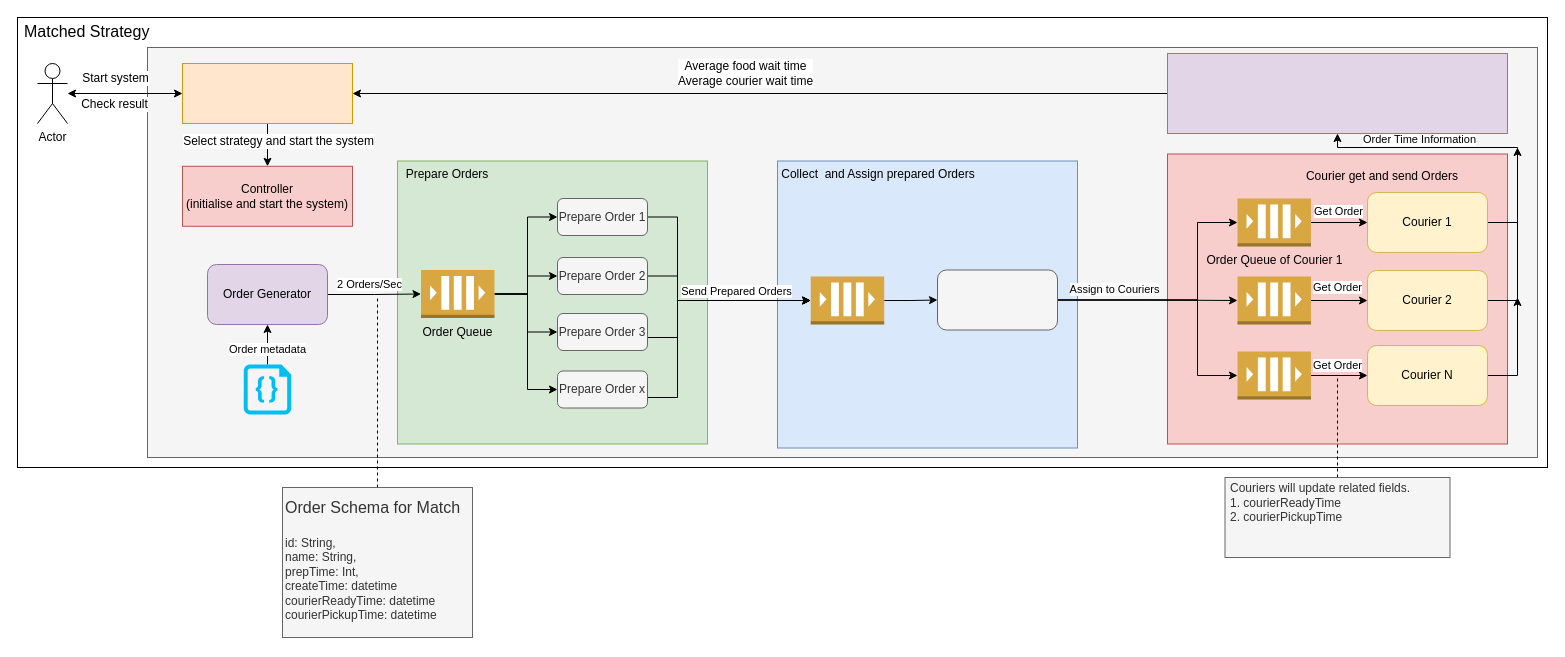
Some shapes in this 1565 by 657 pixel diagram are drawn without their labels. The shapes that lost their labels are listed below. From the top down, each one's centre as x and y in pixels, then its label:
At (x=267, y=93): "Console".
At (x=1337, y=93): "Analysis Performance".
At (x=847, y=300): "Prepared Order Queue".
At (x=997, y=299): "Assign Prepared Orders to its assigned Courier".
At (x=1273, y=300): "Order Queue of Courier 2".
At (x=267, y=389): "Orders (.json)".
At (x=1273, y=375): "Order Queue of Courier N".
